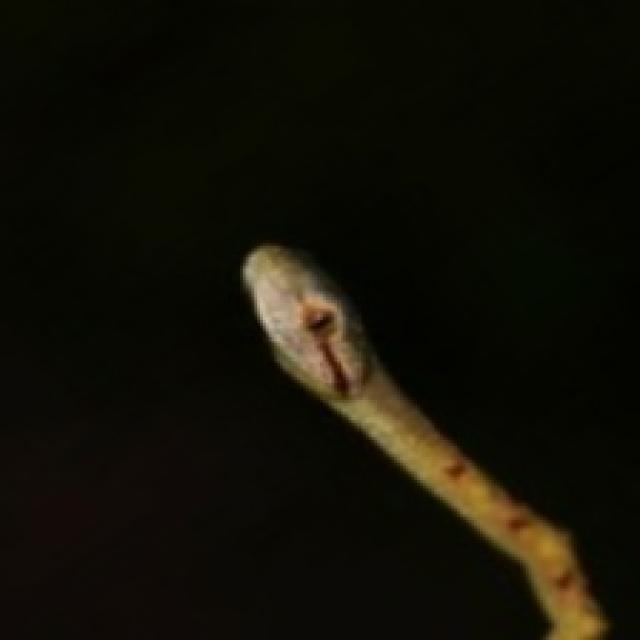dog-toothed cat snake: (243, 246, 606, 637)
